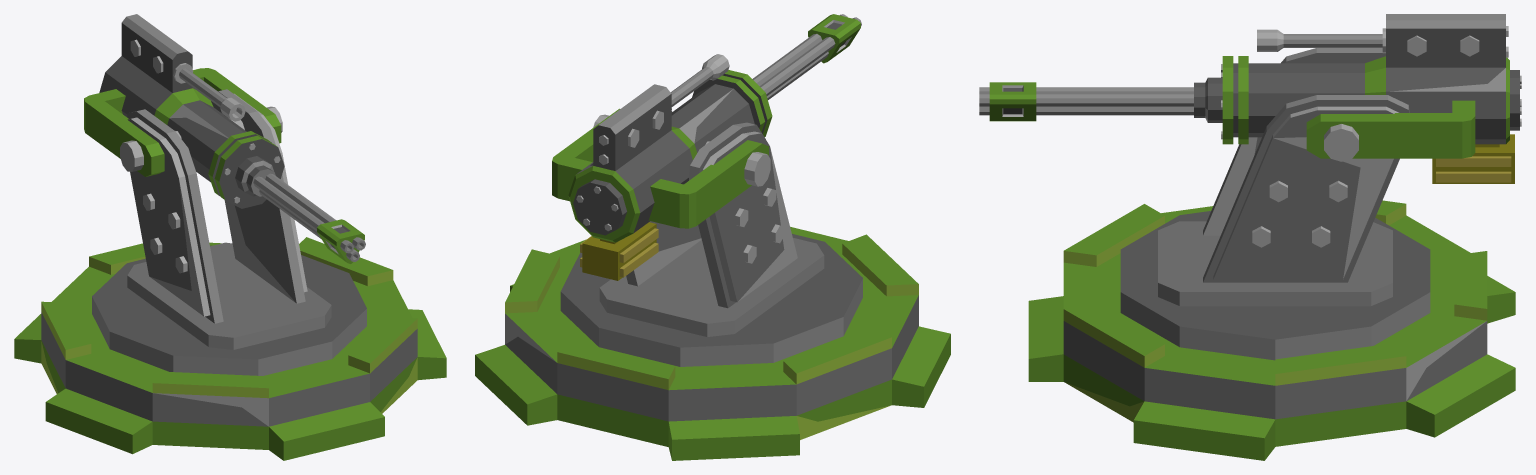
Rendered from tower_minigun_green_2.fbx.
The picture shows the model from 3 angles, left to right: view 1: azimuth 30°, elevation 25°; view 2: azimuth 150°, elevation 25°; view 3: azimuth 270°, elevation 25°; orthographic projection. The views are drawn at different scales.
Visible parts, largest first — view 1: top_minigun_green_2, tower_minigun_green_2; view 2: top_minigun_green_2, tower_minigun_green_2; view 3: top_minigun_green_2, tower_minigun_green_2.
Boxes of the visible parts, bbox=[...] form: top_minigun_green_2: bbox=[84, 14, 366, 375]; tower_minigun_green_2: bbox=[14, 237, 446, 460]; top_minigun_green_2: bbox=[552, 14, 862, 366]; tower_minigun_green_2: bbox=[475, 226, 950, 460]; top_minigun_green_2: bbox=[979, 14, 1521, 360]; tower_minigun_green_2: bbox=[1028, 200, 1515, 460].
Size of the model in its own units: 167 by 120 by 177.
